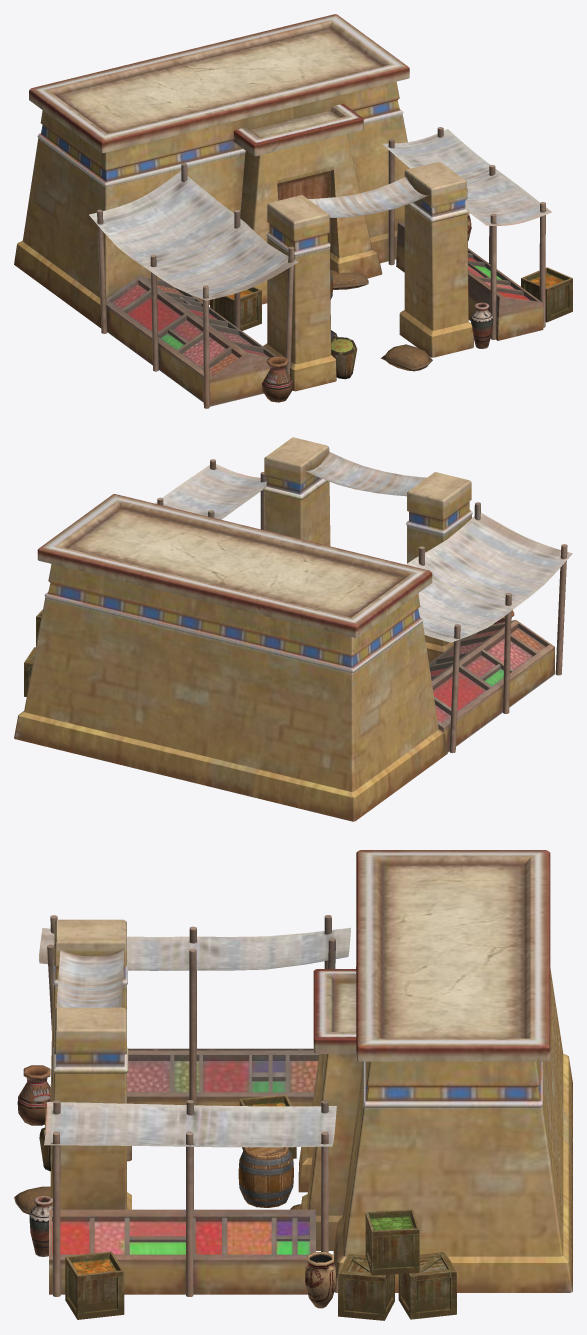
File: 52-market.glb
The picture shows the model from 3 angles, top to bottom: view 1: azimuth 30°, elevation 25°; view 2: azimuth 150°, elevation 25°; view 3: azimuth 270°, elevation 25°; orthographic projection. The views are drawn at different scales.
Size of the model in its own units: 9 by 4.06 by 8.62.
Materials: 7 (7 with a texture image).
